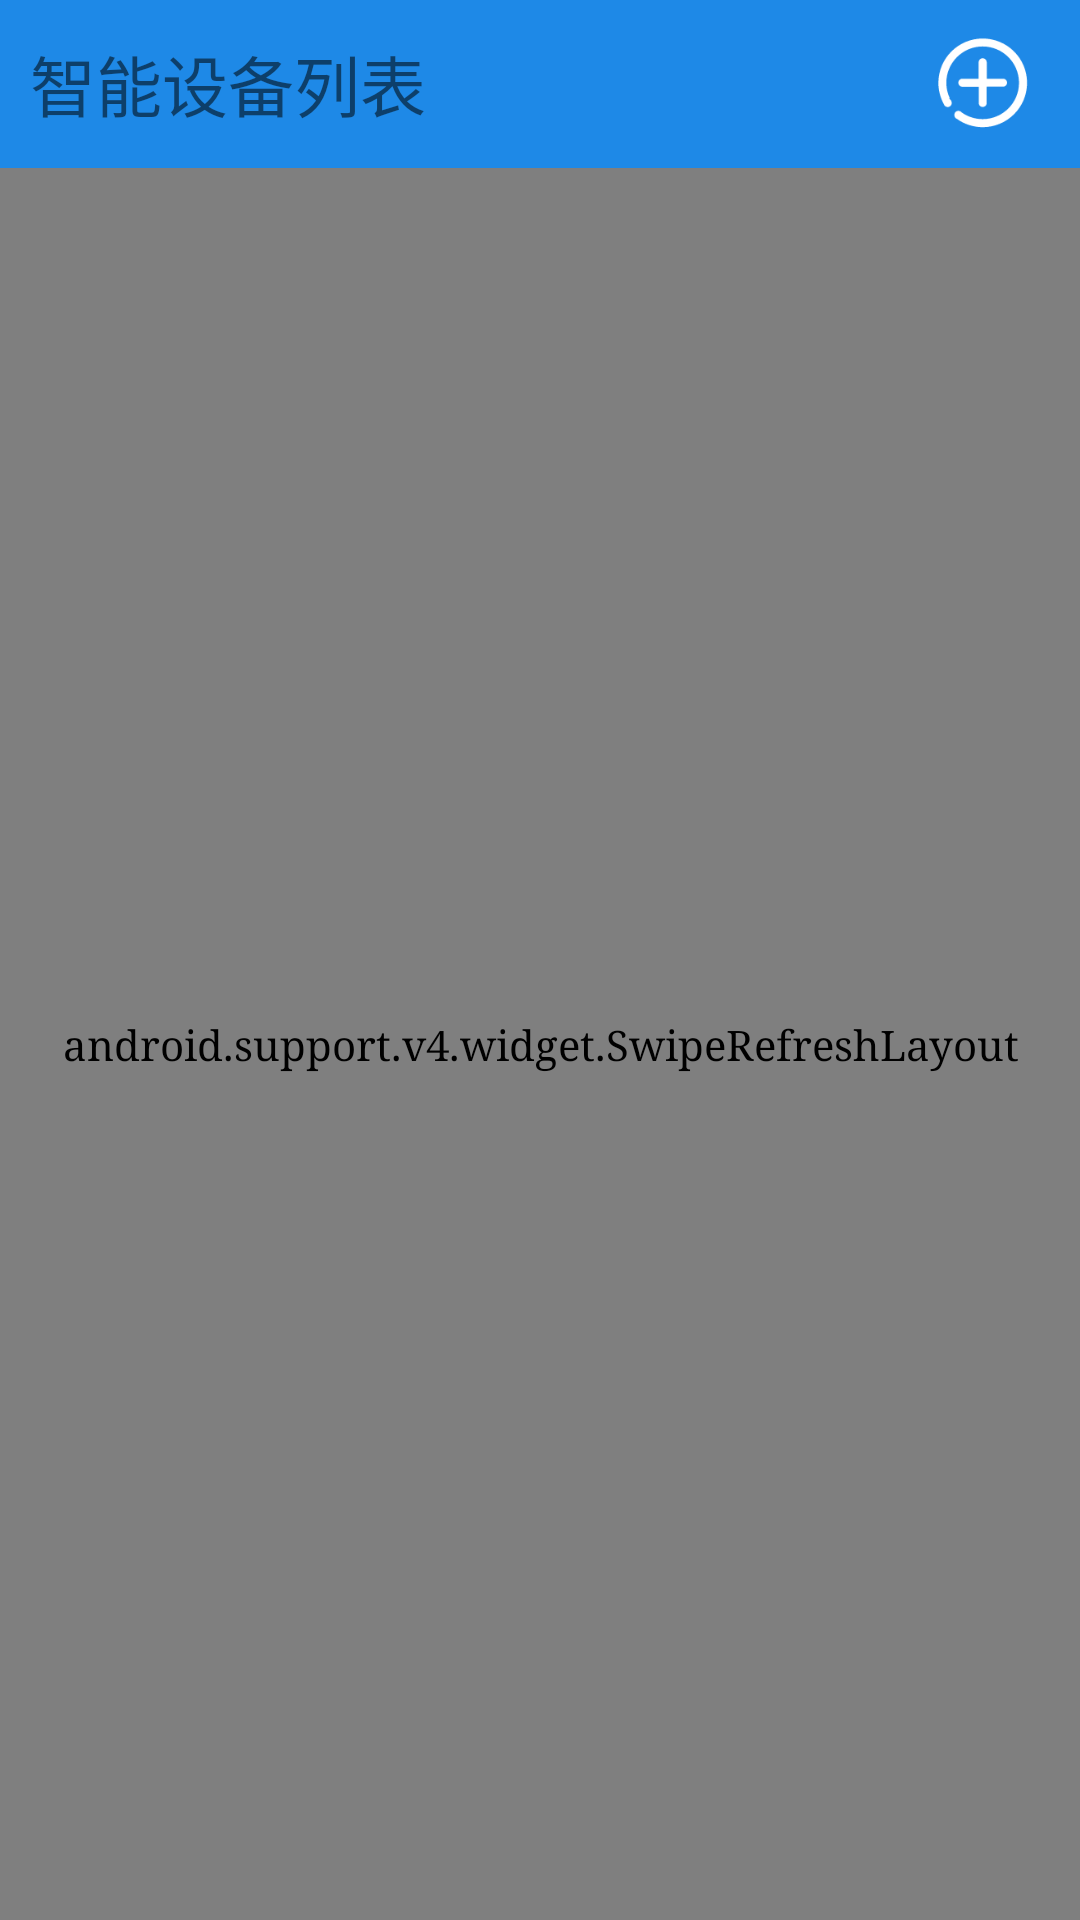

Icons on this 1080 x 1920 Android screen, each with its box as (x1, y1, x2, y2):
add: (938, 38, 1028, 128)
